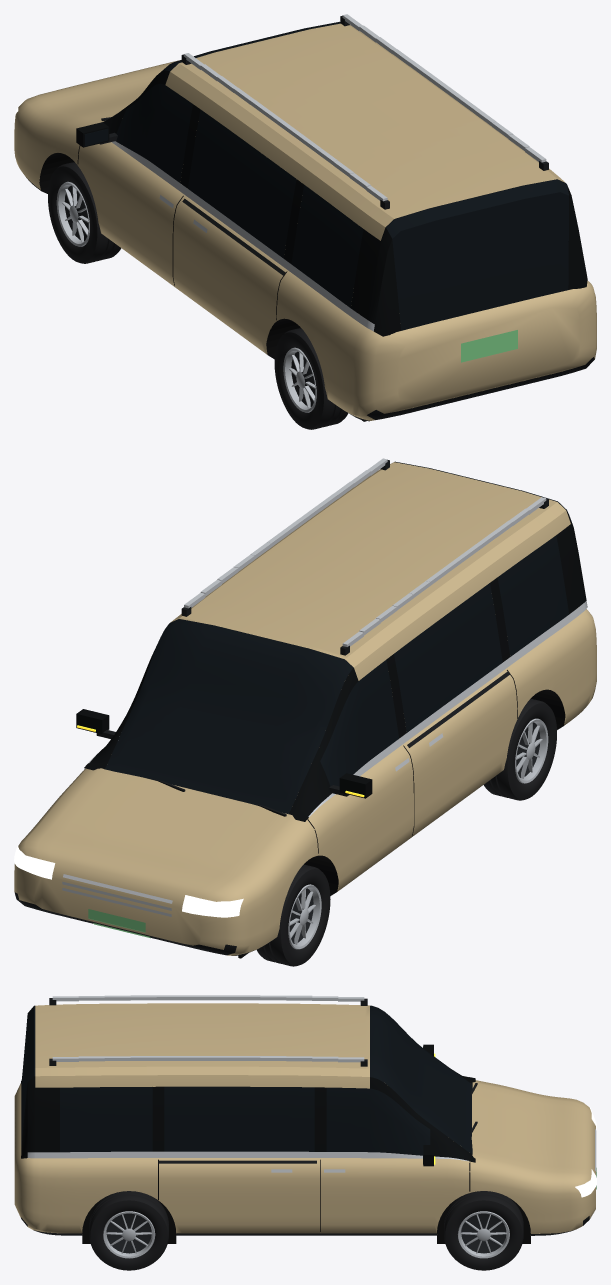
Rendered from gz_mpv.glb.
The picture shows the model from 3 angles, top to bottom: view 1: azimuth 30°, elevation 25°; view 2: azimuth 150°, elevation 25°; view 3: azimuth 270°, elevation 25°; orthographic projection. The views are drawn at different scales.
Visible parts, largest first — view 1: mpv | body, mpv rear left | wheel, mpv front left | wheel; view 2: mpv | body, mpv front left | wheel, mpv rear left | wheel; view 3: mpv | body, mpv front right | wheel, mpv rear right | wheel.
Part boxes in pixels (x1=…): mpv | body: x1=14, y1=14, x2=596, y2=421; mpv rear left | wheel: x1=274, y1=328, x2=348, y2=429; mpv front left | wheel: x1=48, y1=162, x2=121, y2=263; mpv | body: x1=14, y1=458, x2=596, y2=958; mpv front left | wheel: x1=257, y1=864, x2=330, y2=966; mpv rear left | wheel: x1=484, y1=698, x2=556, y2=800; mpv | body: x1=14, y1=995, x2=596, y2=1243; mpv front right | wheel: x1=444, y1=1191, x2=523, y2=1270; mpv rear right | wheel: x1=89, y1=1191, x2=168, y2=1270.
Size of the model in its own units: 2.22 by 1.88 by 4.96.
